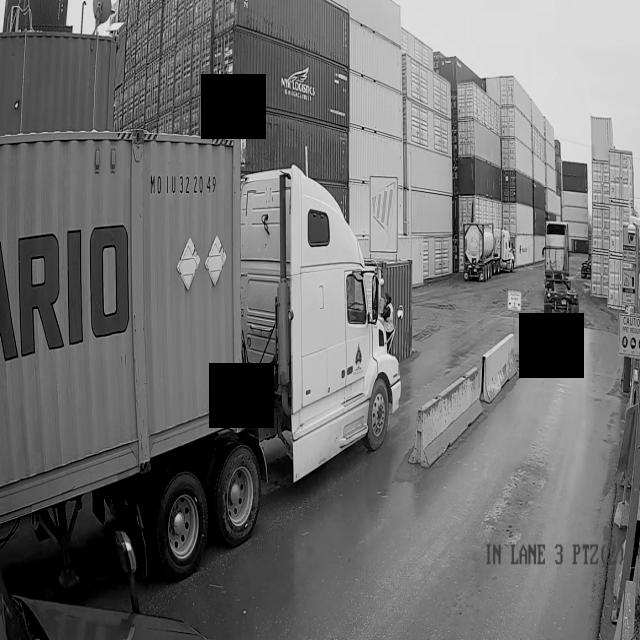container_side_no: (141, 170, 225, 204)
truck_with_container: (0, 128, 401, 584)
truck_without_container: (543, 222, 579, 324)
